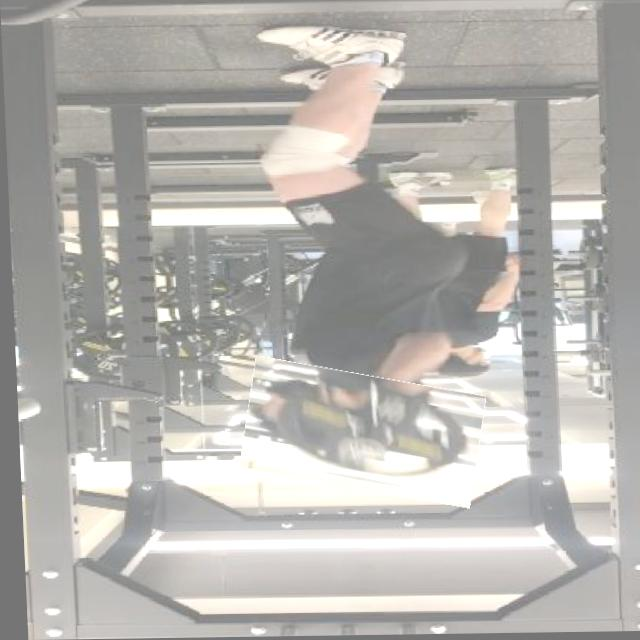barbell: (238, 366, 483, 503)
